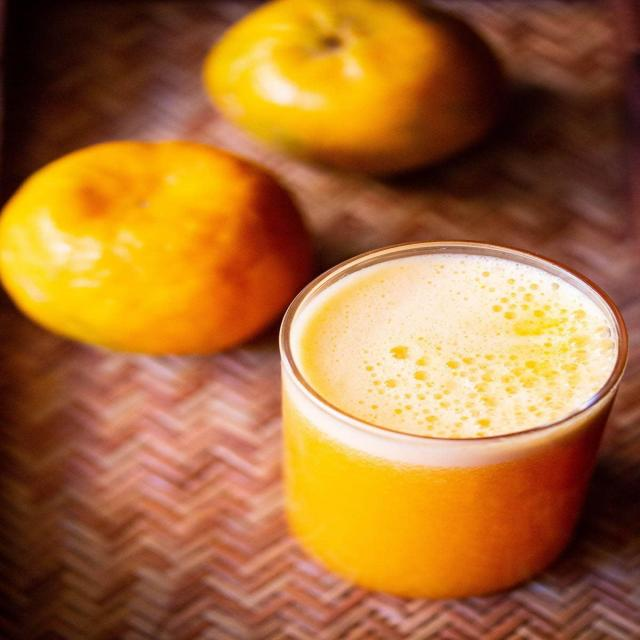glass-normal: (273, 240, 632, 601)
